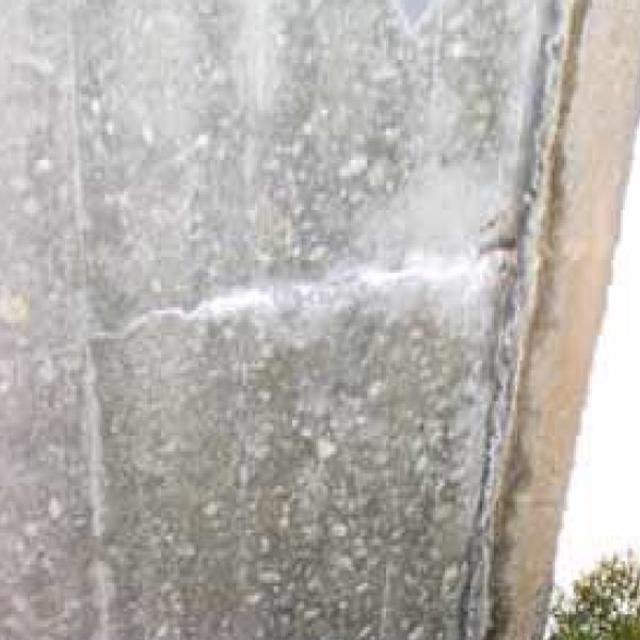freelime: (167, 233, 533, 327)
